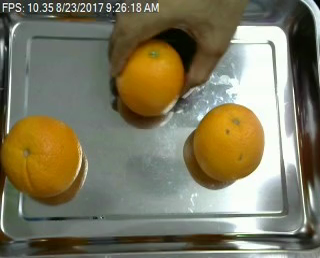Orange: (1, 114, 83, 197), (192, 103, 265, 181)
